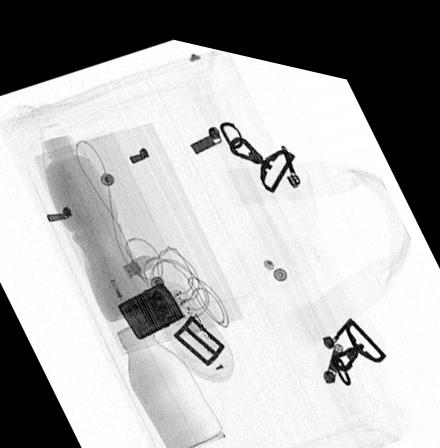Lighter: (117, 274, 184, 332)
